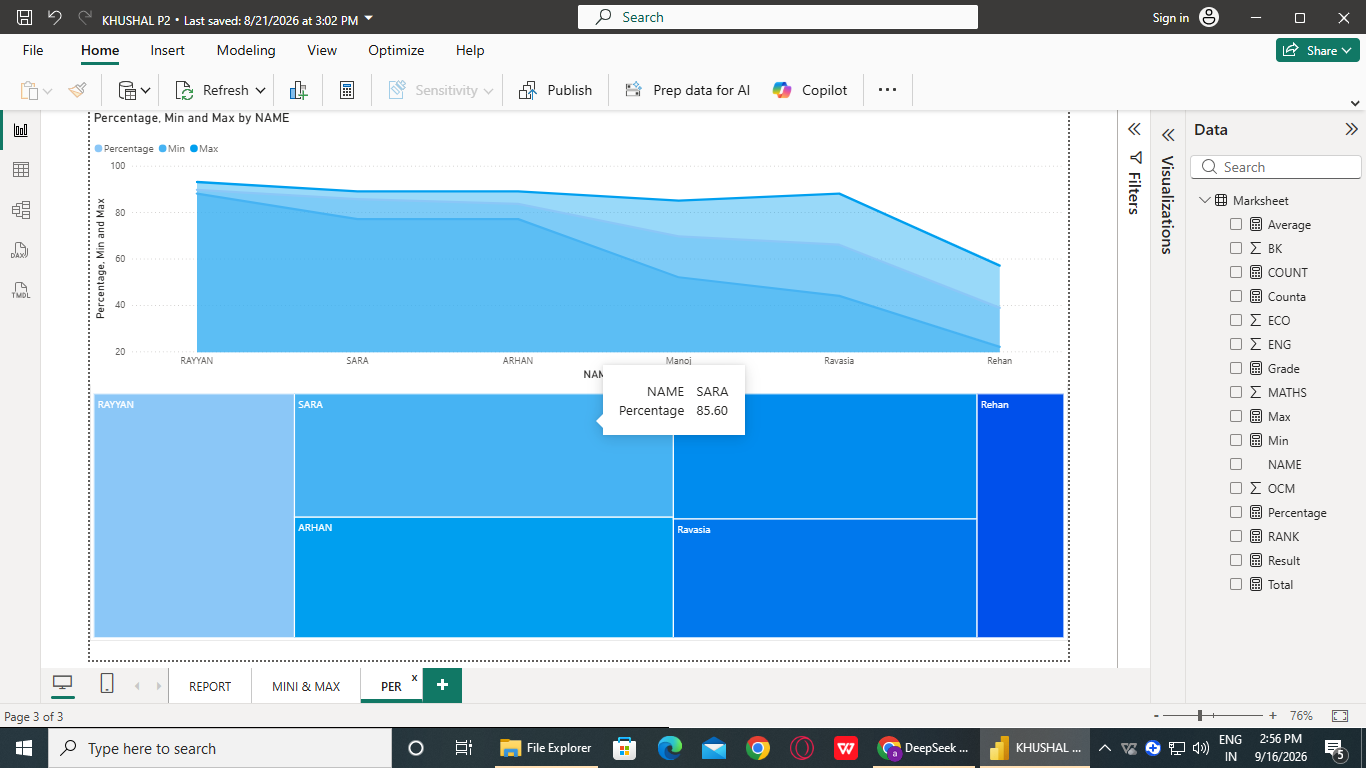

The page's visual inventory and layout, read from the dashboard file:
{"tool":"powerbi","page":{"name":"PER","canvas":[1280,720],"ordinal":2},"visuals":[{"type":"treemap","fields":{"Group":["Marksheet.NAME"],"Values":["Marksheet.Percentage"]},"box":[0,336,1280,359.5],"z":0},{"type":"areaChart","fields":{"Category":["Marksheet.NAME"],"Y":["Marksheet.Percentage","Marksheet.Min","Marksheet.Max"]},"box":[0,0,1280,359.5],"z":1000}]}

Visuals, with their boxes on the page's 1280x720 design canvas (x1, y1, x2, y2). These are canvas units, not pixel positions in the 1366x768 screenshot, which may show the page scaled, cropped or inside an application window:
treemap - Marksheet.NAME x Marksheet.Percentage: (left=0, top=336, right=1280, bottom=696)
areaChart - Marksheet.NAME x Marksheet.Percentage: (left=0, top=0, right=1280, bottom=360)
